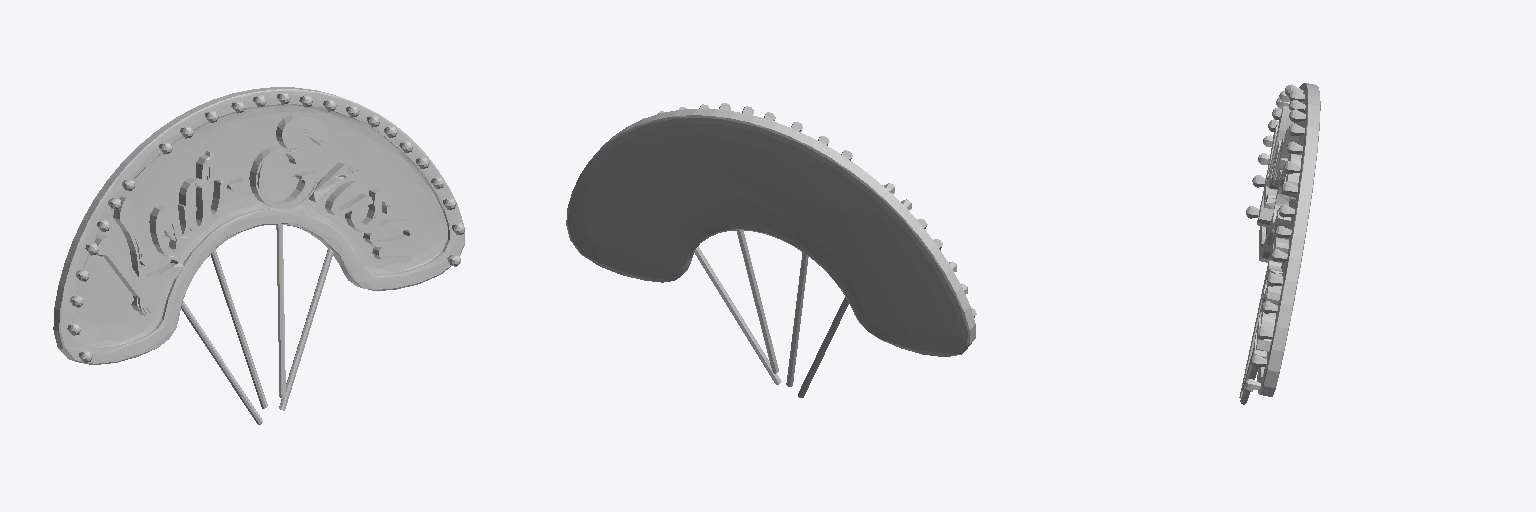
Rendered from kodensa_aviso hi.OBJ.
3 views of the same model, side by side, from view 1: azimuth 30°, elevation 25°; view 2: azimuth 150°, elevation 25°; view 3: azimuth 270°, elevation 25° (orthographic).
Parts seen in each view (by area): view 1: Group34303, Group34304, Group34305; view 2: Group34303, Group34304, Group34305; view 3: Group34303, Group34304.
Part boxes in pixels (x1,y1,x2,y2): Group34303: (53, 87, 465, 424); Group34304: (67, 94, 455, 408); Group34305: (276, 225, 285, 397); Group34303: (566, 103, 976, 397); Group34304: (658, 104, 975, 386); Group34305: (737, 230, 778, 373); Group34303: (1239, 83, 1320, 404); Group34304: (1250, 85, 1305, 391).
Size of the model in its own units: 118 by 84.68 by 20.67.